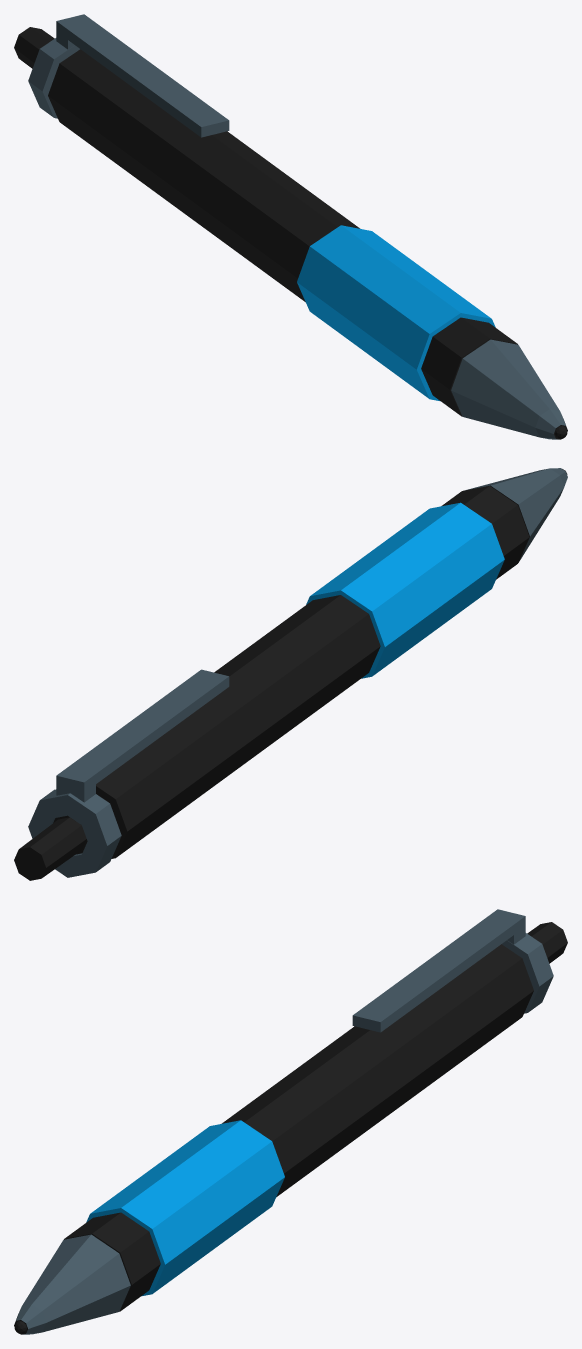
Rendered from Pen.glb.
3 renders of one model, top to bottom at view 1: azimuth 30°, elevation 25°; view 2: azimuth 150°, elevation 25°; view 3: azimuth 330°, elevation 25°, orthographic.
Visible parts, largest first — view 1: Circle.002_Circle.004; view 2: Circle.002_Circle.004; view 3: Circle.002_Circle.004.
Part boxes in pixels (x1,y1,x2,y2): Circle.002_Circle.004: [14, 14, 567, 439]; Circle.002_Circle.004: [14, 468, 567, 880]; Circle.002_Circle.004: [14, 909, 567, 1334].
Bounding box in the file's own units: 0.9598 × 1.06 × 10.07.
